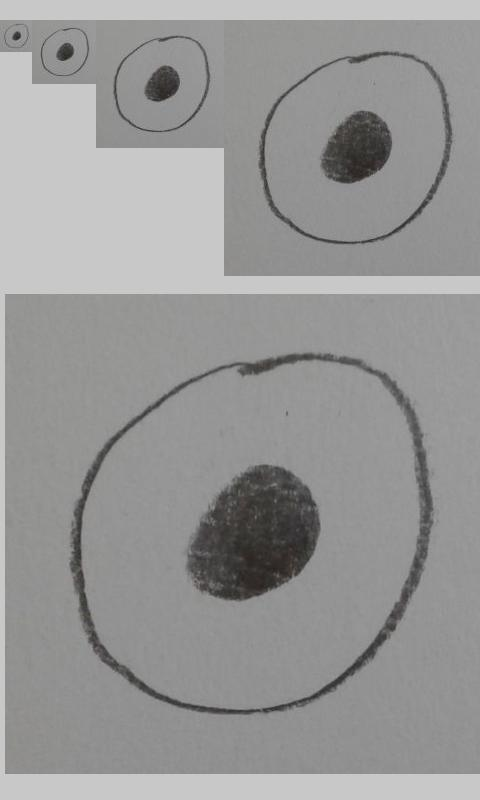radio_button: (68, 352, 434, 717), (257, 50, 452, 247), (113, 35, 210, 133), (40, 27, 90, 77), (3, 23, 29, 49)
